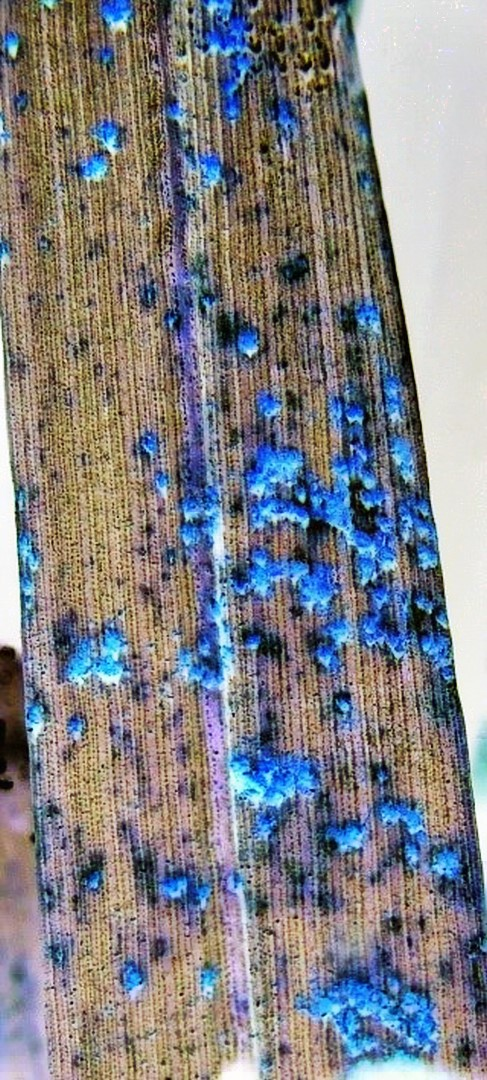Leaf Rust: (13, 56, 480, 1080)
